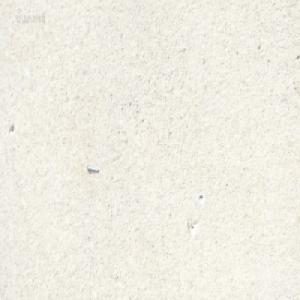Nail: (86, 163, 99, 172)
